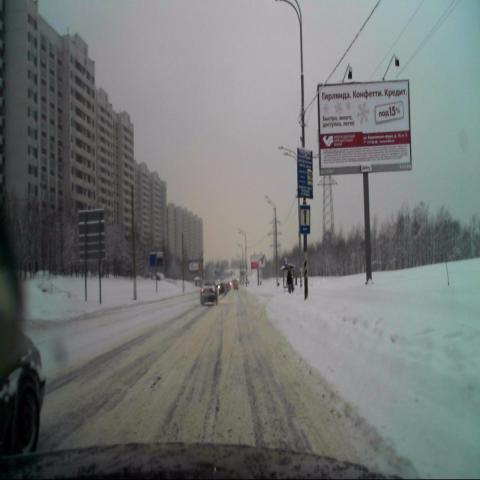7_4: (299, 205, 311, 234)
